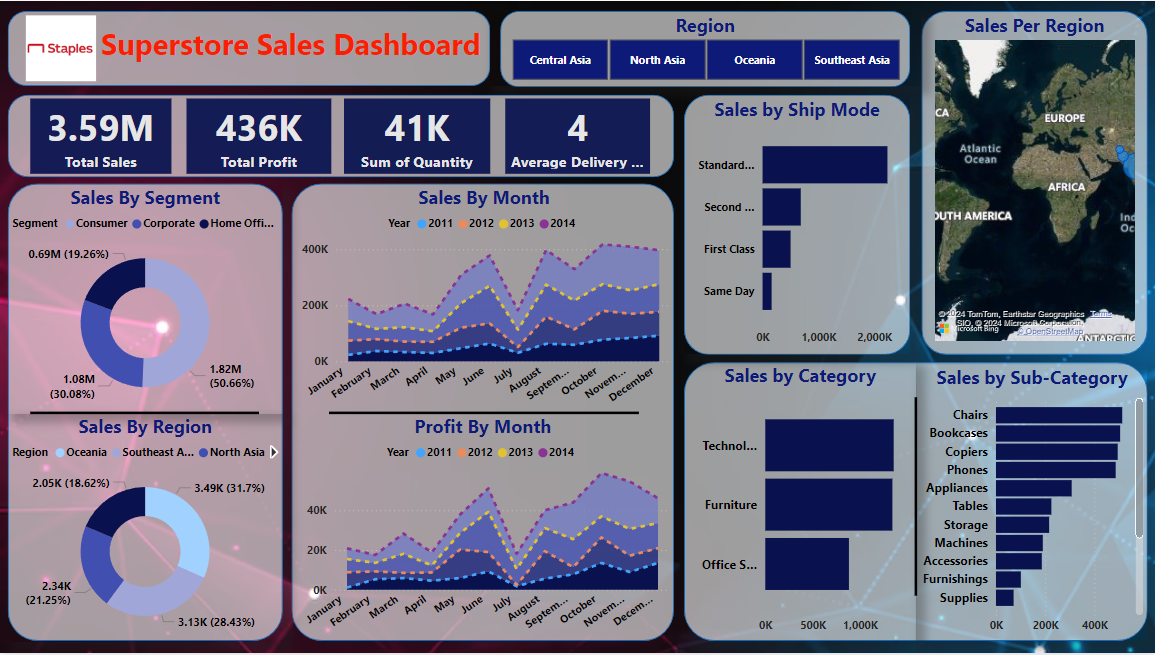

This screenshot's page, from the dashboard's own definition file:
{"tool":"powerbi","page":{"name":"Page 1","canvas":[1280,720],"ordinal":0},"visuals":[{"type":"shape","box":[9.7,11,533.1,82.9],"z":0},{"type":"image","box":[9.7,11,117.4,82.9],"z":1000},{"type":"textbox","box":[78.7,20.7,487.5,73.2],"z":2000},{"type":"shape","box":[553.8,11,453,84.2],"z":3000},{"type":"shape","box":[1019.3,11,250,379.8],"z":4000},{"type":"shape","box":[756.8,399.1,512.4,308],"z":5000},{"type":"clusteredBarChart","title":"Sales by Sub-Category","fields":{"Y":["Sum(Sheet1.Sales)"],"Category":["Sheet1.Sub-Category"]},"box":[1013.7,401.9,255.5,305.2],"z":6000},{"type":"barChart","title":"Sales by Category","fields":{"Category":["Sheet1.Category"],"Y":["Sum(Sheet1.Sales)"]},"box":[756.8,399.1,256.9,308],"z":7000},{"type":"shape","box":[323.2,201.6,422.6,505.5],"z":8000},{"type":"stackedAreaChart","title":"Profit By Month","fields":{"Category":["Orders$FilterDatabase.Order Date.Variation.Date Hierarchy.Month"],"Series":["Orders$FilterDatabase.Order Date.Variation.Date Hierarchy.Year"],"Y":["Sum(Sheet1.Profit)"]},"box":[323.2,455.8,422.6,251.4],"z":9000},{"type":"slicer","title":"Region","fields":{"Values":["Sheet1.Region"]},"box":[541.4,12.4,477.9,81.5],"z":10000},{"type":"shape","box":[756.8,103.6,250,287.3],"z":11000},{"type":"barChart","title":"Sales by Ship Mode","fields":{"Category":["Sheet1.Ship Mode"],"Y":["Sum(Sheet1.Sales)"]},"box":[756.8,105,250,284.5],"z":12000},{"type":"shape","box":[911.5,437.8,203,219.6],"z":13000},{"type":"shape","box":[9.7,201.6,303.8,505.5],"z":14000},{"type":"shape","box":[9.7,103.6,736.1,91.2],"z":15000},{"type":"stackedAreaChart","title":"Sales By Month","fields":{"Category":["Orders$FilterDatabase.Order Date.Variation.Date Hierarchy.Month"],"Series":["Orders$FilterDatabase.Order Date.Variation.Date Hierarchy.Year"],"Y":["Sum(Orders.Sales)"]},"box":[324.6,203,422.6,252.7],"z":16000},{"type":"shape","box":[364.6,345.3,342.5,219.6],"z":17000},{"type":"donutChart","title":"Sales By Segment","fields":{"Y":["Sum(Sheet1.Sales)"],"Category":["Sheet1.Segment"]},"box":[9.7,203,303.8,252.7],"z":18000},{"type":"shape","box":[34.5,345.3,252.7,219.6],"z":19000},{"type":"donutChart","title":"Sales By Region","fields":{"Category":["Orders.Region"],"Y":["CountNonNull(Sheet1.Returned)"]},"box":[9.7,455.8,303.8,252.7],"z":20000},{"type":"card","fields":{"Values":["Sum(Orders.Sales)"]},"box":[34.5,107.7,156.1,82.9],"z":21000},{"type":"card","fields":{"Values":["Sum(Orders.Profit)"]},"box":[207.2,107.7,160.2,82.9],"z":22000},{"type":"card","fields":{"Values":["Avg(Sheet1.AvgDelivery)"]},"box":[559.3,107.7,160.2,82.9],"z":23000},{"type":"card","fields":{"Values":["Sum(Orders$FilterDatabase.Quantity)"]},"box":[381.2,107.7,161.6,82.9],"z":24000},{"type":"map","title":"Sales Per Region","fields":{"Series":["Sheet1.Region"],"Size":["Sum(Sheet1.Sales)"],"Category":["Orders$FilterDatabase.Country","Orders$FilterDatabase.City"]},"box":[1028.9,12.4,230.6,368.8],"z":25000}]}

Visuals, with their boxes in screenshot pixels (x1, y1, x2, y2), scaled from the page's 1280x720 canvas onto the 1155x655 screenshot:
shape: x1=9 y1=10 x2=490 y2=85
image: x1=9 y1=10 x2=115 y2=85
textbox: x1=71 y1=19 x2=511 y2=85
shape: x1=500 y1=10 x2=908 y2=87
shape: x1=920 y1=10 x2=1145 y2=356
shape: x1=683 y1=363 x2=1145 y2=643
"Sales by Sub-Category" clusteredBarChart: x1=915 y1=366 x2=1145 y2=643
"Sales by Category" barChart: x1=683 y1=363 x2=915 y2=643
shape: x1=292 y1=183 x2=673 y2=643
"Profit By Month" stackedAreaChart: x1=292 y1=415 x2=673 y2=643
"Region" slicer: x1=489 y1=11 x2=920 y2=85
shape: x1=683 y1=94 x2=908 y2=356
"Sales by Ship Mode" barChart: x1=683 y1=96 x2=908 y2=354
shape: x1=822 y1=398 x2=1006 y2=598
shape: x1=9 y1=183 x2=283 y2=643
shape: x1=9 y1=94 x2=673 y2=177
"Sales By Month" stackedAreaChart: x1=293 y1=185 x2=674 y2=415
shape: x1=329 y1=314 x2=638 y2=514
"Sales By Segment" donutChart: x1=9 y1=185 x2=283 y2=415
shape: x1=31 y1=314 x2=259 y2=514
"Sales By Region" donutChart: x1=9 y1=415 x2=283 y2=645
card - Sum(Orders.Sales): x1=31 y1=98 x2=172 y2=173
card - Sum(Orders.Profit): x1=187 y1=98 x2=332 y2=173
card - Avg(Sheet1.AvgDelivery): x1=505 y1=98 x2=649 y2=173
card - Sum(Orders$FilterDatabase.Quantity): x1=344 y1=98 x2=490 y2=173
"Sales Per Region" map: x1=928 y1=11 x2=1137 y2=347
